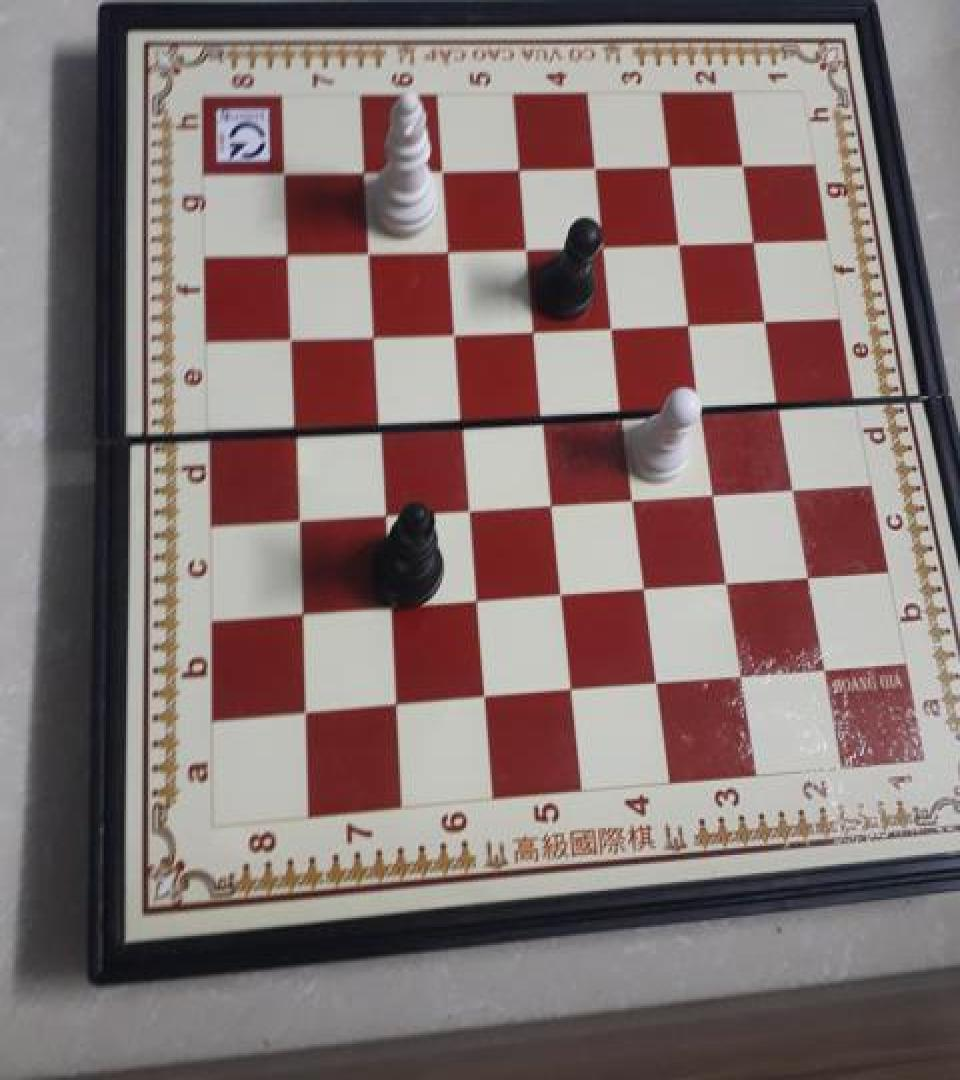xcorner: (291, 693, 321, 727), (382, 686, 412, 720), (470, 680, 500, 714), (558, 672, 588, 706), (643, 667, 673, 701), (727, 660, 757, 694), (809, 654, 839, 688), (287, 593, 317, 627), (376, 587, 406, 621), (462, 582, 492, 616), (548, 576, 578, 610), (631, 572, 661, 606), (714, 566, 744, 600), (794, 560, 824, 594), (284, 497, 314, 531), (455, 488, 485, 522), (538, 484, 568, 518), (620, 479, 650, 513), (780, 471, 810, 505), (280, 406, 310, 440), (448, 399, 478, 433), (529, 396, 559, 430), (609, 392, 639, 426), (688, 388, 718, 422), (766, 384, 796, 418), (359, 317, 389, 351), (441, 314, 471, 348), (599, 308, 629, 342), (676, 306, 706, 340), (752, 302, 782, 336), (273, 236, 303, 270), (354, 234, 384, 268), (434, 232, 464, 266), (512, 230, 542, 264), (589, 228, 619, 262), (665, 226, 695, 260), (740, 224, 770, 258), (270, 156, 300, 190), (349, 155, 379, 189), (428, 154, 458, 188), (504, 152, 534, 186), (580, 150, 610, 184), (654, 150, 684, 184), (727, 148, 757, 182), (370, 493, 400, 526), (701, 475, 731, 508), (365, 403, 395, 436), (277, 320, 307, 353), (521, 311, 551, 344)
